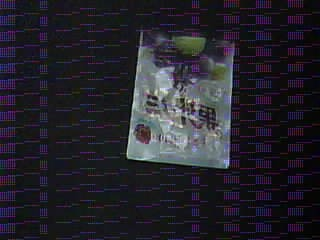plastic: (126, 31, 234, 170)
